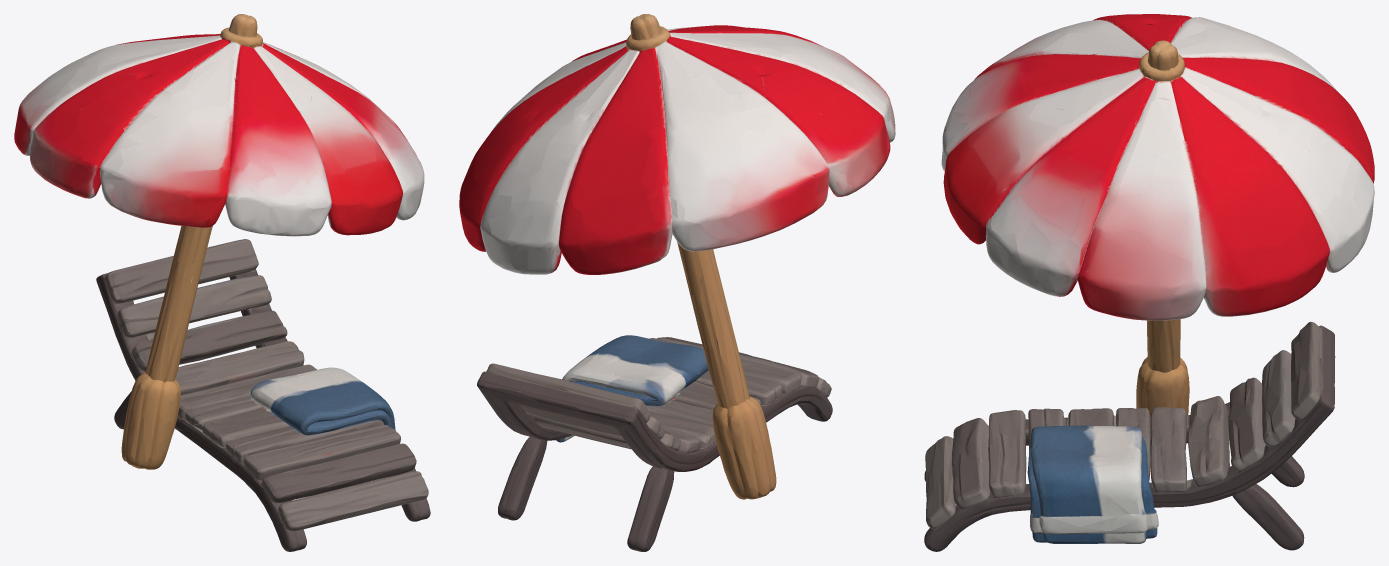
The model's file is guardasol.glb.
3 views of the same model, side by side, from view 1: azimuth 30°, elevation 25°; view 2: azimuth 150°, elevation 25°; view 3: azimuth 270°, elevation 25° (orthographic). The views are drawn at different scales.
Size of the model in its own units: 1.59 by 1.9 by 1.65.
1 material, 1 textured.
